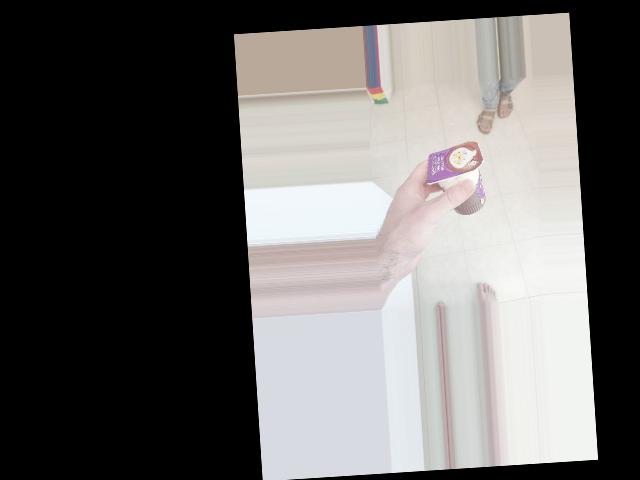milky: (427, 136, 487, 216)
